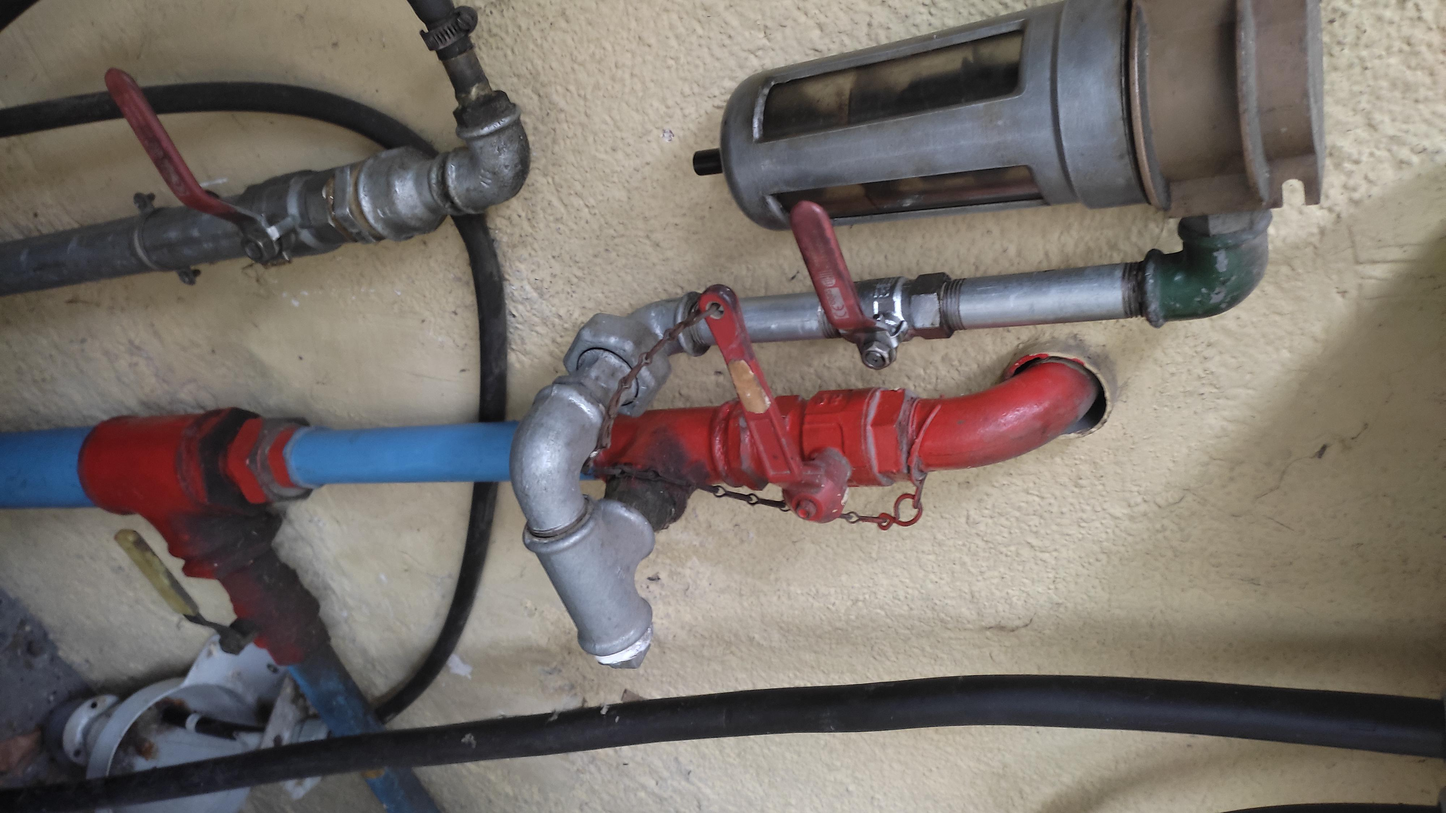closed valve: (692, 280, 917, 525), (100, 64, 357, 277), (787, 198, 958, 374)
opened valve: (112, 523, 334, 672)
